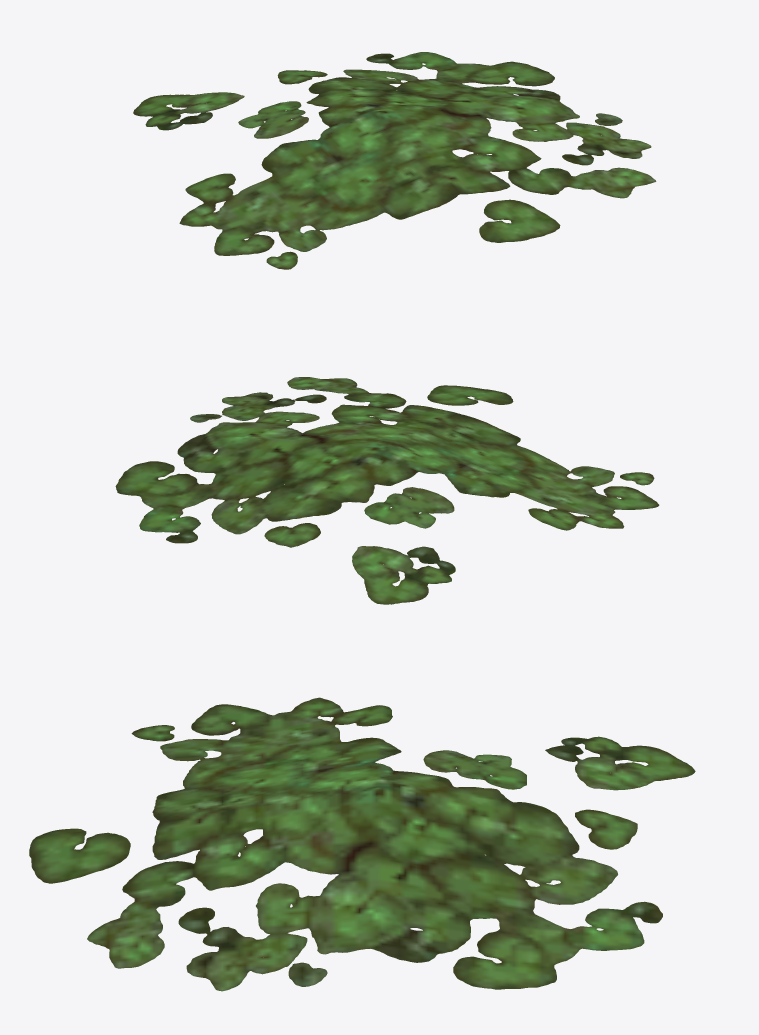
The model's file is frst_ptch_clover_green_l1.fbx.
The picture shows the model from 3 angles, top to bottom: view 1: azimuth 30°, elevation 25°; view 2: azimuth 150°, elevation 25°; view 3: azimuth 270°, elevation 25°; orthographic projection. The views are drawn at different scales.
Parts seen in each view (by area): view 1: mesh_node; view 2: mesh_node; view 3: mesh_node.
Boxes of the visible parts, x1=… form: mesh_node: x1=133, y1=52, x2=656, y2=269; mesh_node: x1=115, y1=377, x2=659, y2=604; mesh_node: x1=29, y1=697, x2=695, y2=991.
Bounding box in the file's own units: 1.98 × 0.2301 × 1.98.
Materials: 1 (1 with a texture image).
